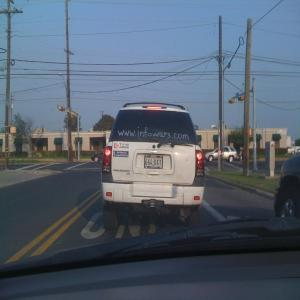Vehicle-registration-plate: (140, 160, 175, 181)
